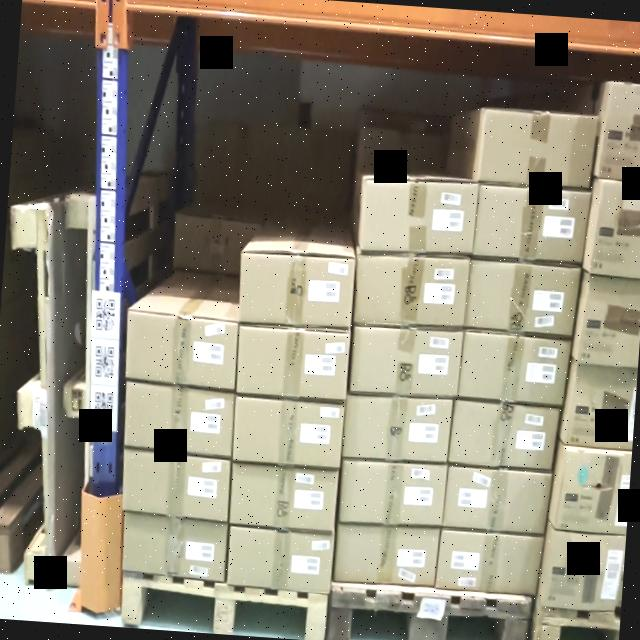box: (477, 108, 597, 192), (471, 186, 588, 268), (122, 311, 242, 390), (230, 389, 346, 468), (234, 253, 354, 329), (120, 378, 234, 456), (342, 389, 454, 463), (120, 448, 234, 520), (468, 264, 576, 338), (364, 180, 474, 252), (235, 326, 348, 396), (354, 257, 466, 327), (452, 397, 556, 472), (461, 330, 568, 402), (352, 326, 461, 396), (118, 514, 230, 581), (333, 525, 440, 592), (228, 466, 340, 528), (228, 528, 331, 594), (445, 474, 554, 536), (338, 460, 442, 520), (439, 534, 542, 592)
